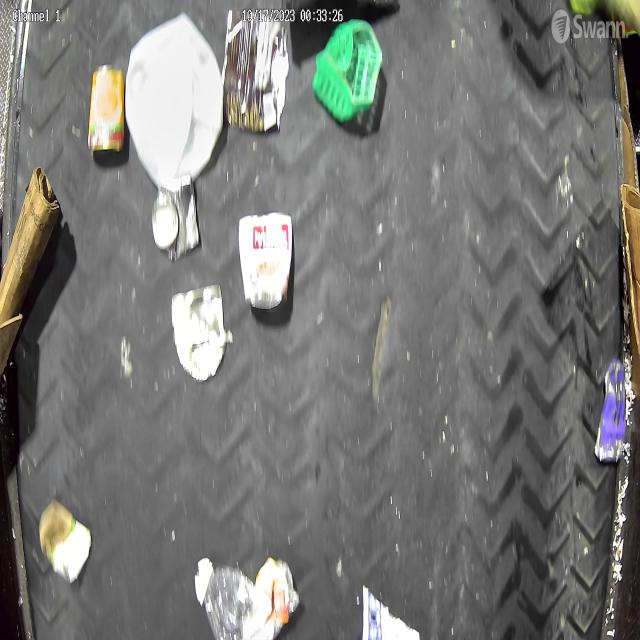can: (238, 212, 292, 309), (171, 284, 224, 380), (150, 177, 200, 261), (88, 64, 124, 153)
milk_jug: (124, 12, 225, 192)
